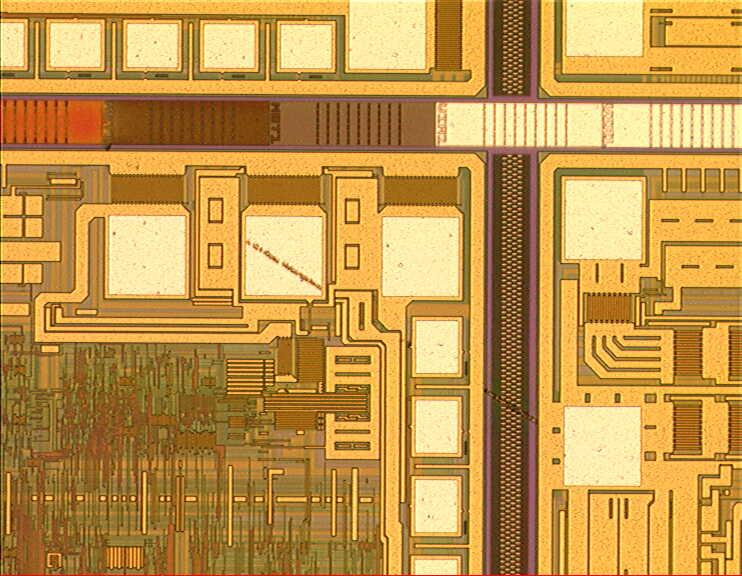SCRATCH: (233, 226, 557, 434)
